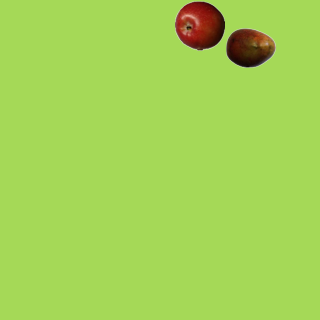Apple Braeburn: (174, 0, 224, 50)
Mango Red: (225, 22, 275, 72)
